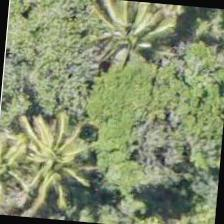Kelapa_Sawit: (0, 114, 96, 213), (79, 0, 177, 87), (0, 122, 54, 217)
